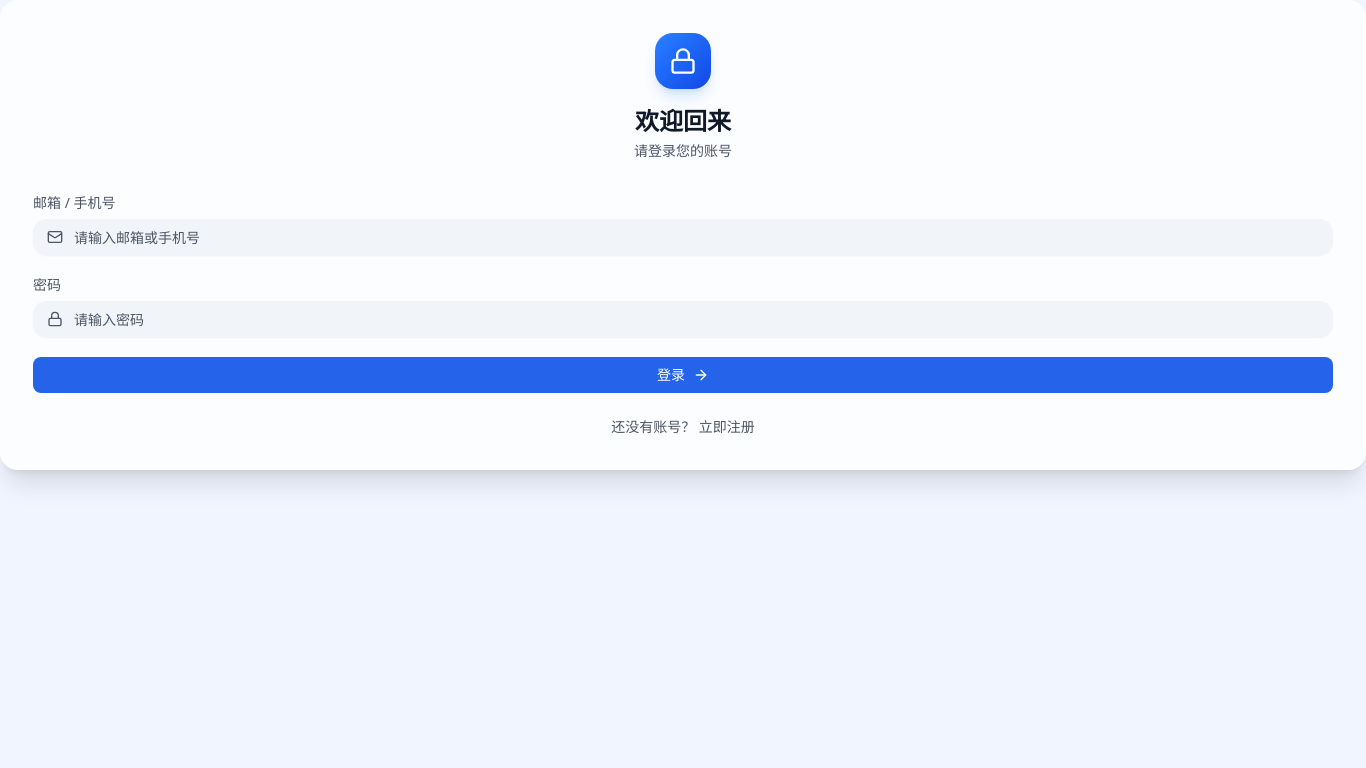
Scenario: LoginForm › shows validation errors on empty submit
The image size is (1366, 768).
Click the button "登录". click: click(683, 375)
box: [33,357,1333,393]
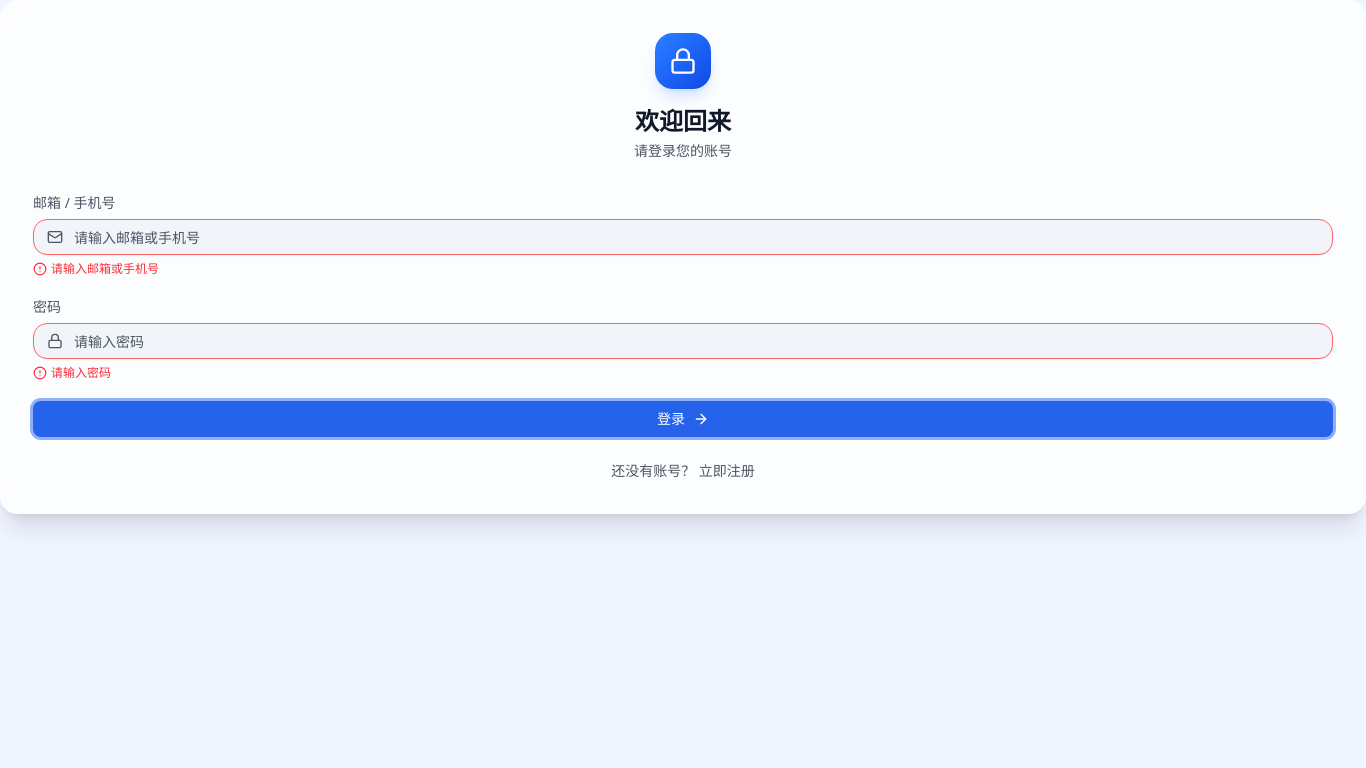
Result: the text "请输入邮箱或手机号" is shown at [33,260,159,277]
Result: the text "请输入密码" is shown at [33,364,111,381]
